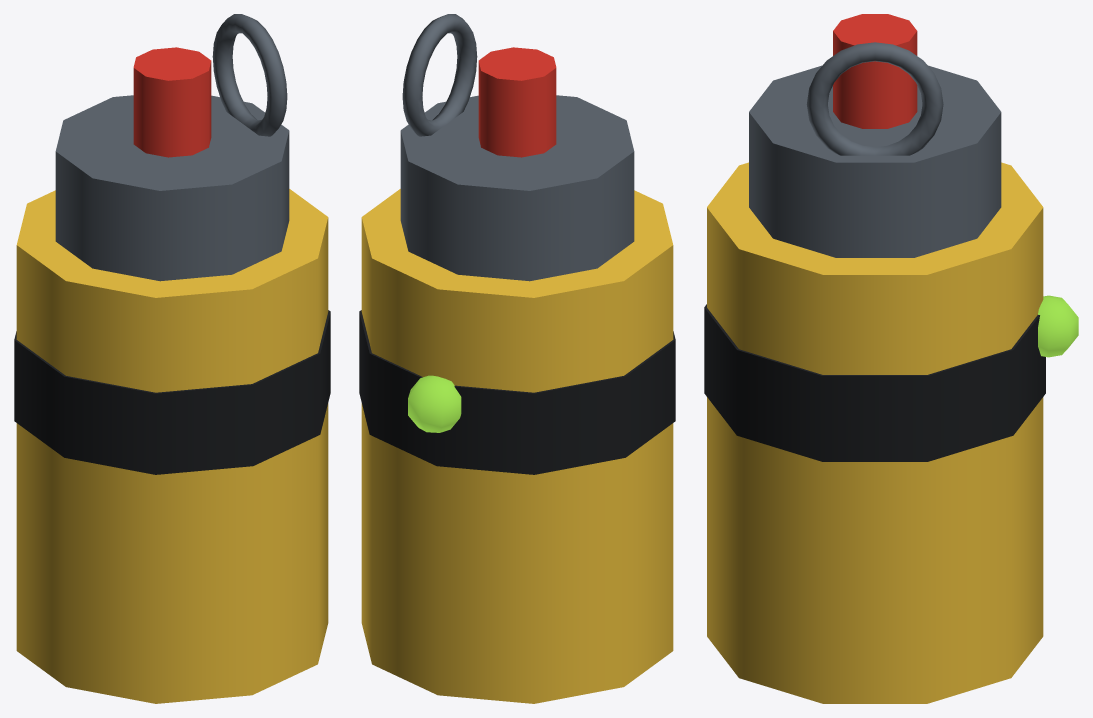
The model's file is bug_bomb_canister.glb.
The picture shows the model from 3 angles, left to right: view 1: azimuth 30°, elevation 25°; view 2: azimuth 150°, elevation 25°; view 3: azimuth 270°, elevation 25°; orthographic projection. The views are drawn at different scales.
Visible parts, largest first — view 1: _MeshInstance3D_4211, _MeshInstance3D_4213, _MeshInstance3D_4212, _MeshInstance3D_4214, _MeshInstance3D_4215; view 2: _MeshInstance3D_4211, _MeshInstance3D_4213, _MeshInstance3D_4212, _MeshInstance3D_4214, _MeshInstance3D_4215, _MeshInstance3D_4216; view 3: _MeshInstance3D_4211, _MeshInstance3D_4213, _MeshInstance3D_4212, _MeshInstance3D_4214, _MeshInstance3D_4215, _MeshInstance3D_4216.
Boxes of the visible parts, <box> form: _MeshInstance3D_4211: <box>16,189,328,703</box>; _MeshInstance3D_4213: <box>55,95,289,281</box>; _MeshInstance3D_4212: <box>14,310,330,474</box>; _MeshInstance3D_4214: <box>133,47,211,157</box>; _MeshInstance3D_4215: <box>212,14,287,136</box>; _MeshInstance3D_4211: <box>361,189,673,703</box>; _MeshInstance3D_4213: <box>400,95,634,281</box>; _MeshInstance3D_4212: <box>359,310,675,474</box>; _MeshInstance3D_4214: <box>478,47,556,157</box>; _MeshInstance3D_4215: <box>402,14,477,136</box>; _MeshInstance3D_4216: <box>408,375,461,432</box>; _MeshInstance3D_4211: <box>707,162,1043,703</box>; _MeshInstance3D_4213: <box>749,65,1001,257</box>; _MeshInstance3D_4212: <box>704,304,1045,461</box>; _MeshInstance3D_4214: <box>833,14,917,128</box>; _MeshInstance3D_4215: <box>806,42,943,155</box>; _MeshInstance3D_4216: <box>1038,295,1078,357</box>.
Bounding box in the file's own units: 0.0618 × 0.133 × 0.0712.
